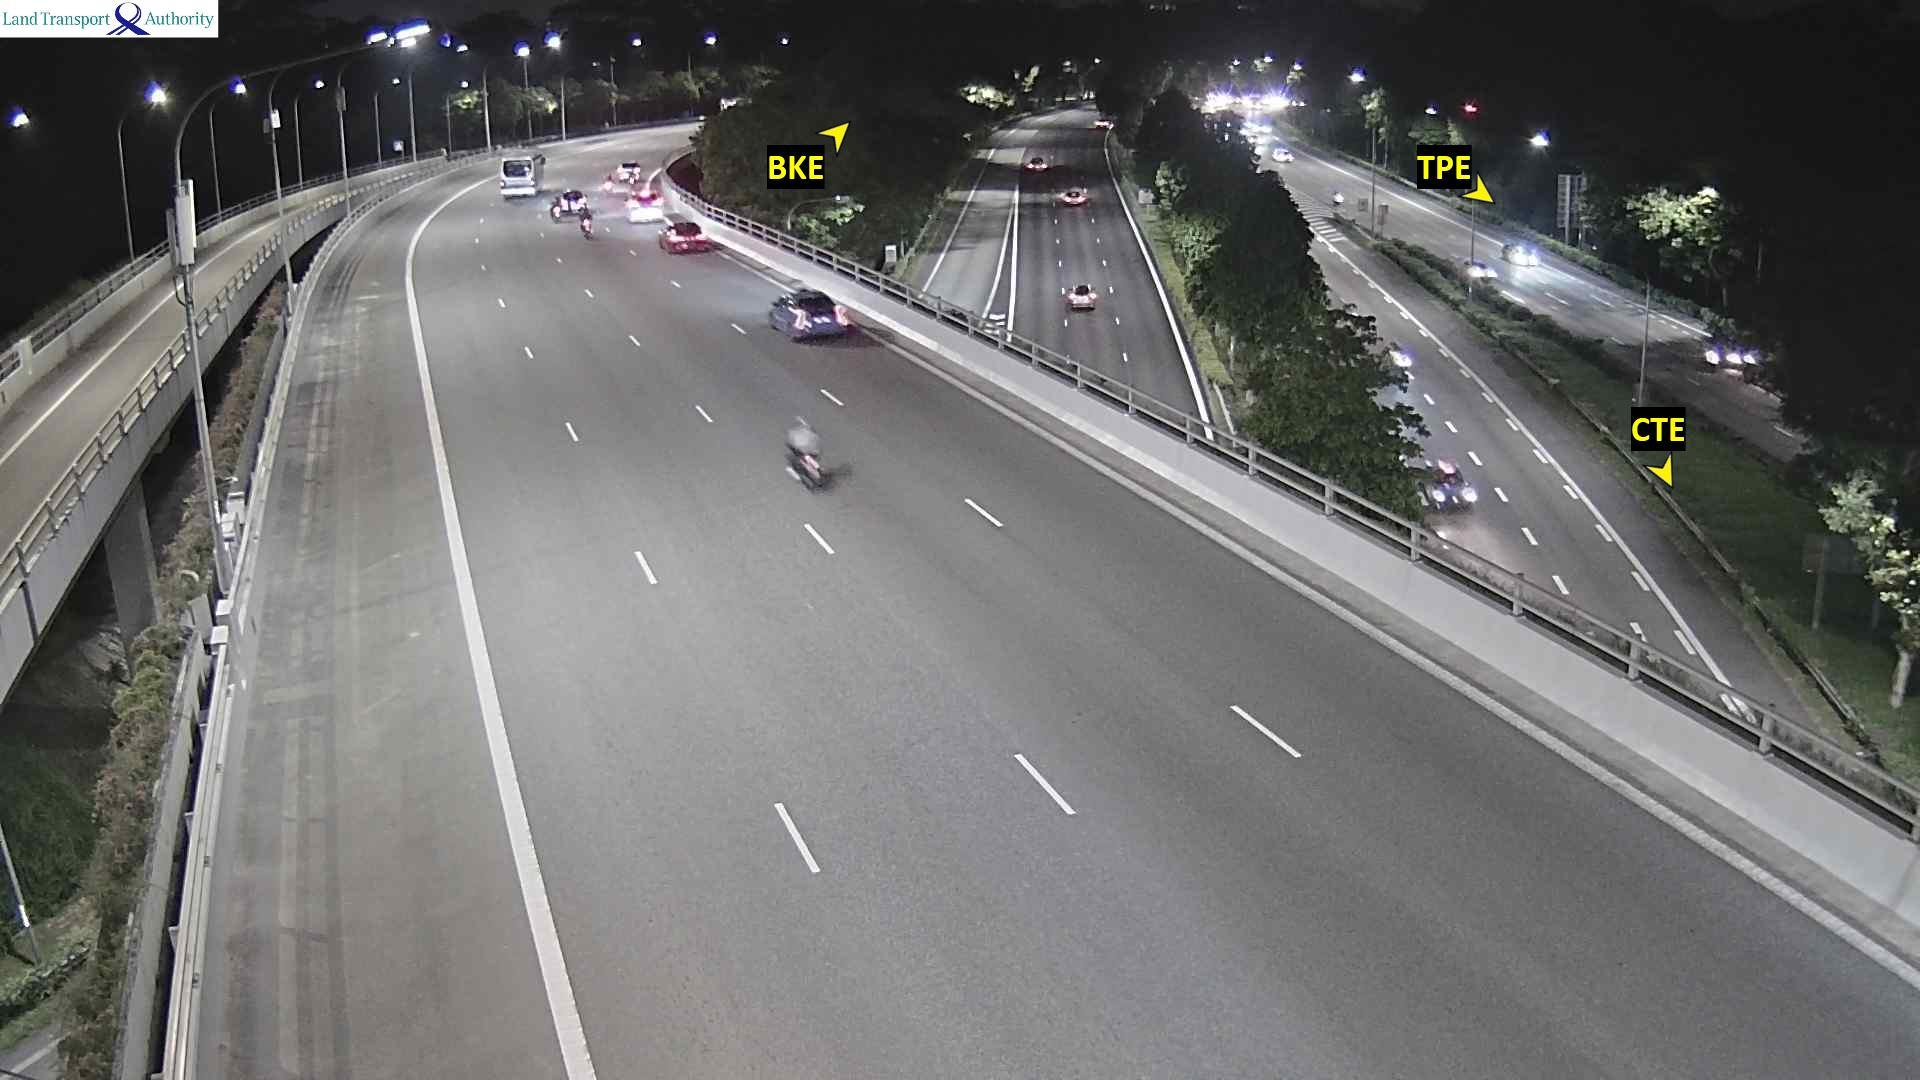bus: (492, 153, 547, 198)
cars: (767, 286, 852, 340), (1401, 455, 1477, 512), (625, 170, 664, 222), (657, 219, 710, 254), (549, 188, 589, 221), (1499, 238, 1539, 267), (1062, 282, 1097, 310), (1461, 258, 1496, 283), (1055, 186, 1089, 206), (614, 159, 641, 183), (1701, 339, 1724, 367), (1021, 153, 1050, 172), (1249, 137, 1268, 159), (1271, 145, 1293, 162), (1092, 113, 1114, 129)
motorcycle: (782, 415, 827, 489), (577, 201, 594, 238), (550, 196, 560, 228), (602, 173, 615, 196), (1332, 188, 1344, 206)
